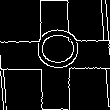O_W: (29, 33, 81, 77)
